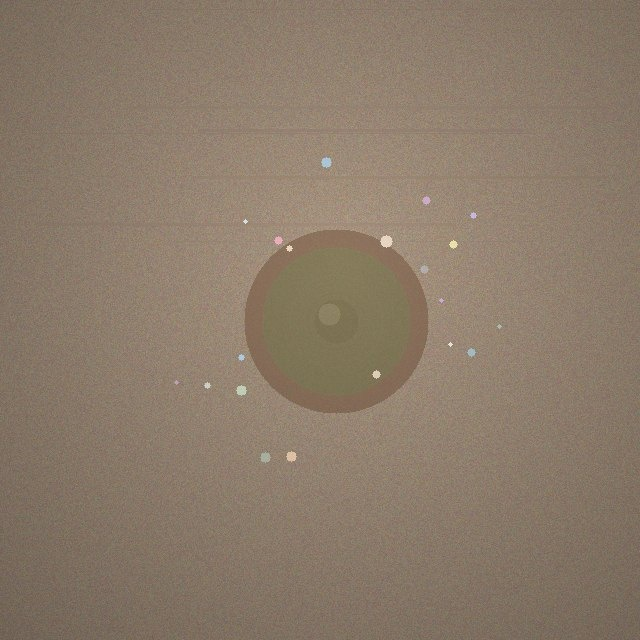overburn: (244, 229, 428, 413)
